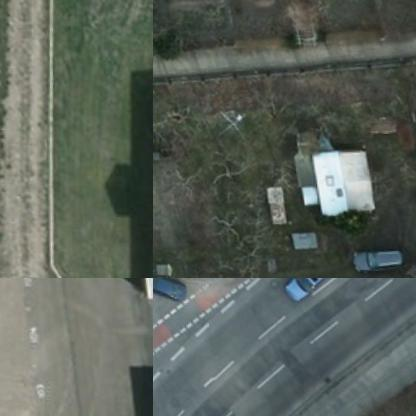car: (344, 239, 403, 277), (276, 278, 336, 309), (153, 278, 186, 317)
